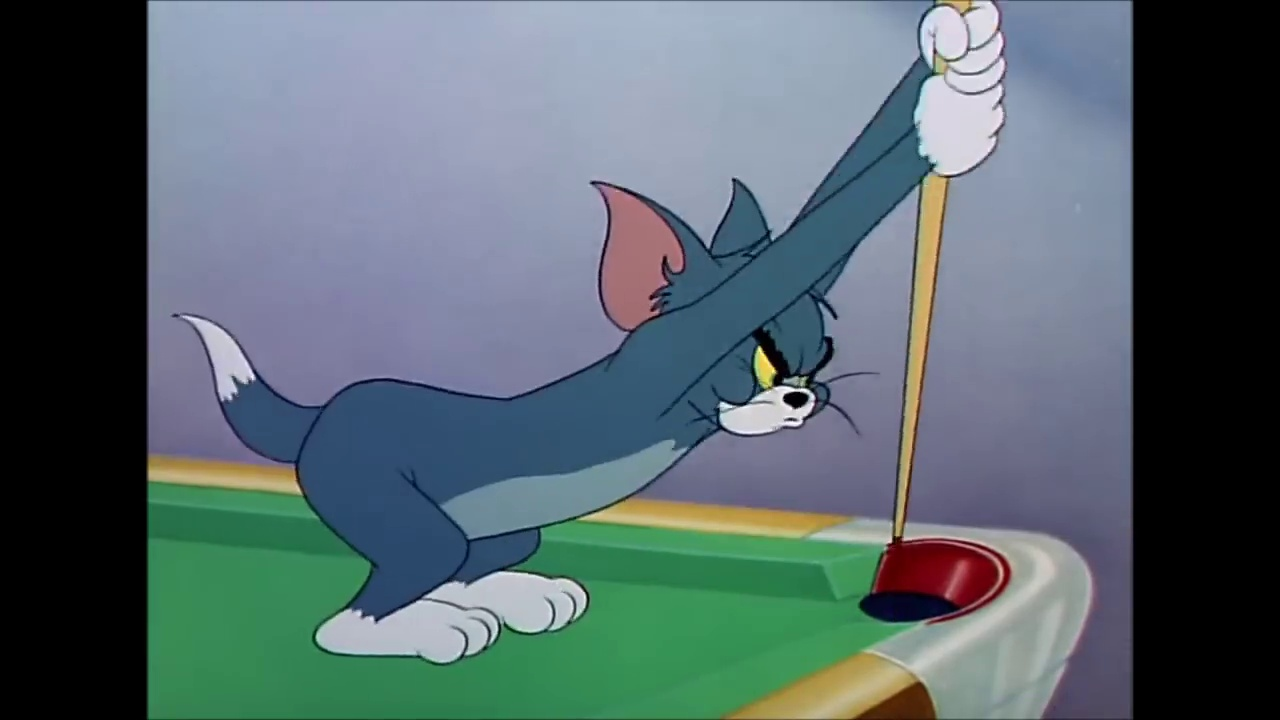angry: (729, 316, 838, 438)
